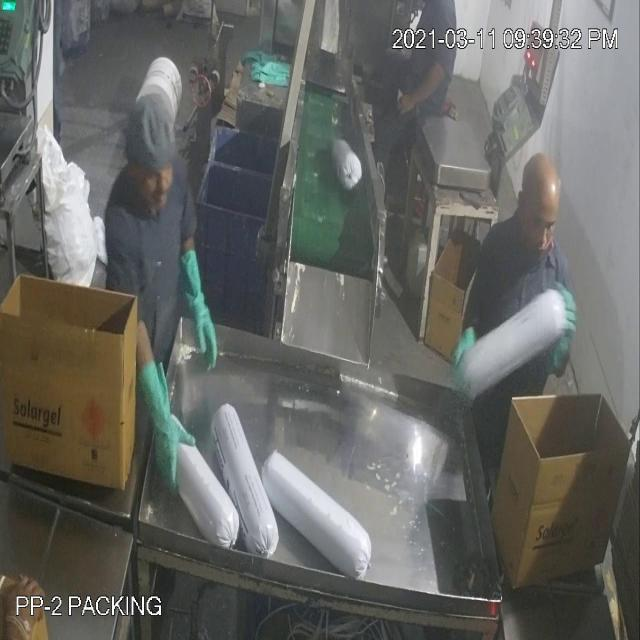No_Gloves: (50, 58, 423, 426)
